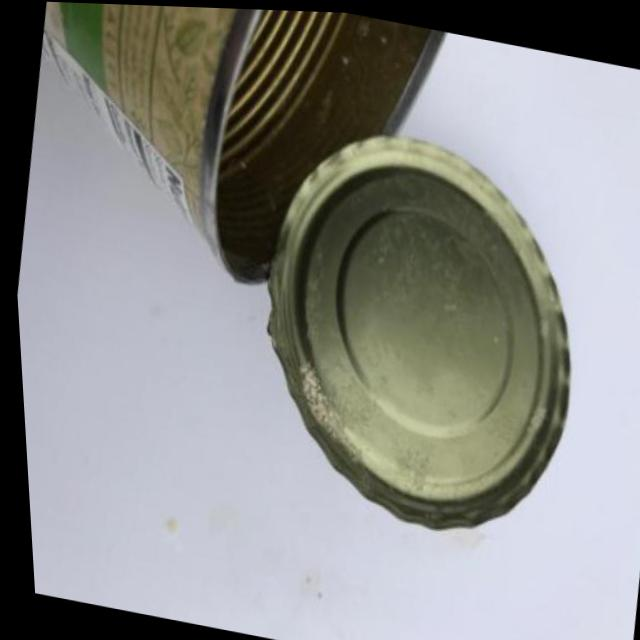metal: (0, 0, 634, 560)
